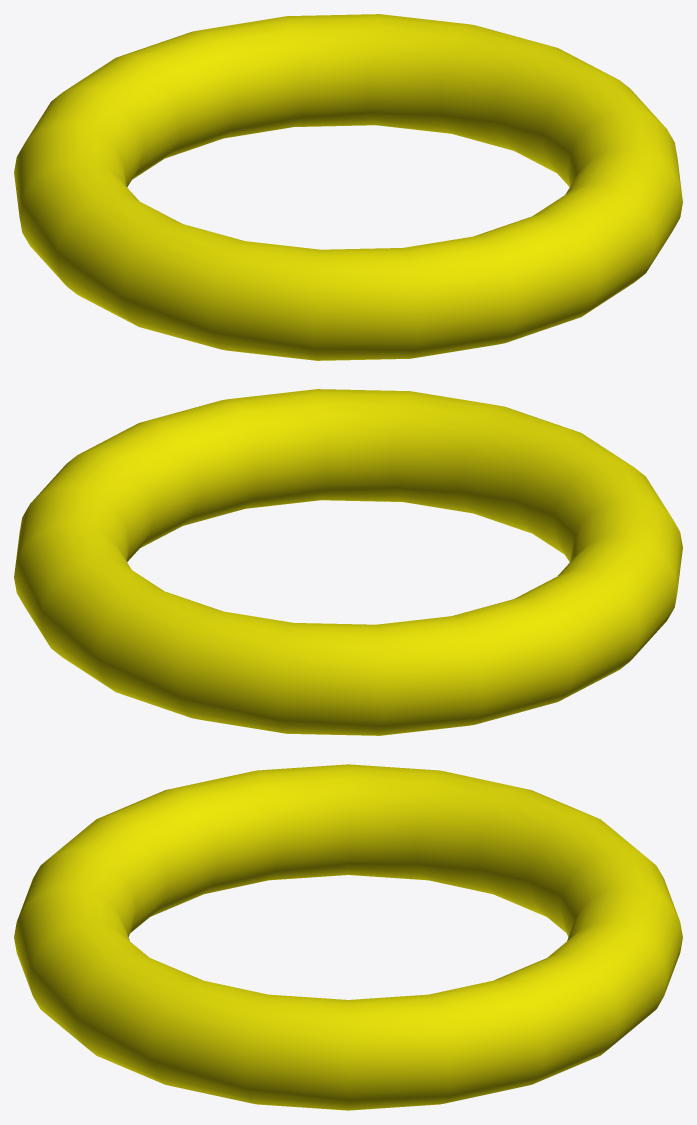
3 views of the same model, one above another, from view 1: azimuth 30°, elevation 25°; view 2: azimuth 150°, elevation 25°; view 3: azimuth 270°, elevation 25° (orthographic).
Parts seen in each view (by area): view 1: pTorus1; view 2: pTorus1; view 3: pTorus1.
Part boxes in pixels (x1=…): pTorus1: x1=14, y1=14, x2=682, y2=360; pTorus1: x1=14, y1=389, x2=682, y2=735; pTorus1: x1=14, y1=764, x2=682, y2=1110.
Bounding box in the file's own units: 2.4 × 0.4 × 2.4.
